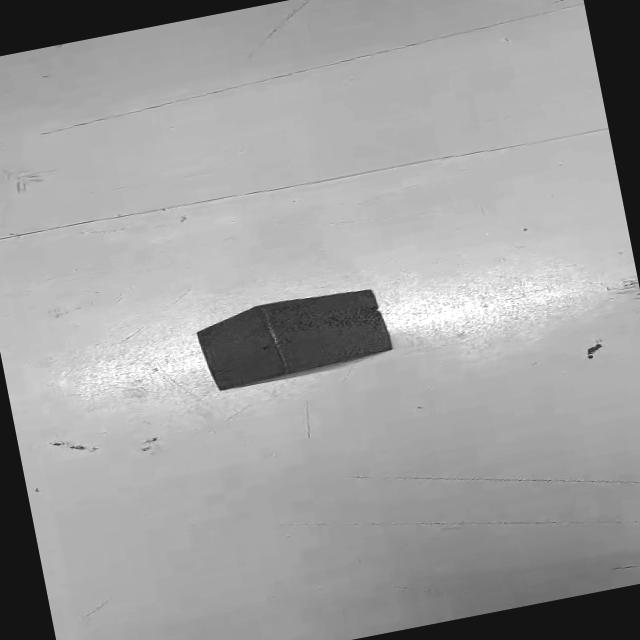rtriangle: (196, 290, 391, 390)
